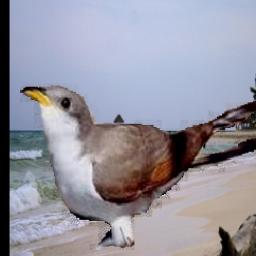Cuckoo: (20, 85, 256, 251)
